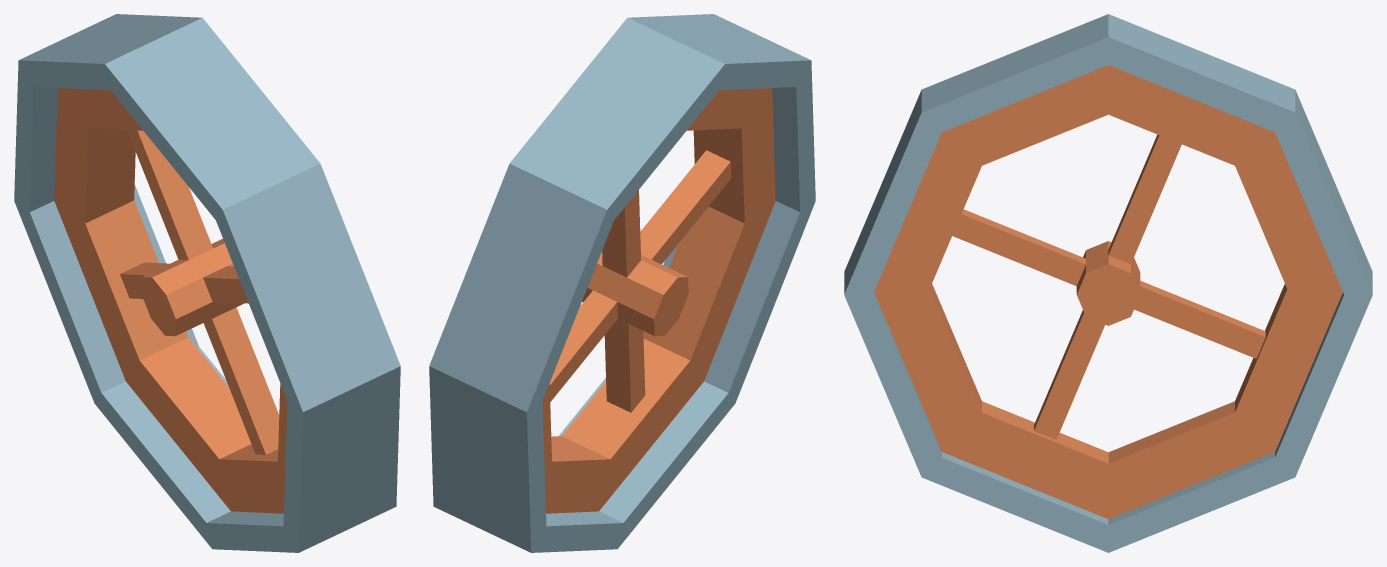
The model's file is d_kenney_roue.glb.
3 views of the same model, side by side, from view 1: azimuth 30°, elevation 25°; view 2: azimuth 150°, elevation 25°; view 3: azimuth 270°, elevation 25° (orthographic). The views are drawn at different scales.
Parts seen in each view (by area): view 1: d_kenney_roue; view 2: d_kenney_roue; view 3: d_kenney_roue.
Part boxes in pixels (bbox=[...]): d_kenney_roue: bbox=[14, 14, 400, 552]; d_kenney_roue: bbox=[429, 14, 815, 552]; d_kenney_roue: bbox=[844, 14, 1372, 552].
Size of the model in its own units: 0.2076 by 0.5162 by 0.5063.
Materials: 1 (1 with a texture image).
